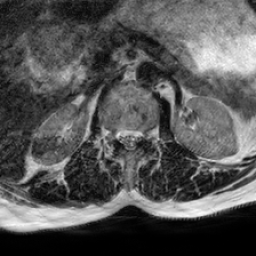CCS_normal: (126, 123, 134, 156)
LFS_normal: (144, 122, 152, 149)
LLS_normal: (134, 123, 144, 153)
RFS_normal: (108, 120, 117, 148)
RLS_normal: (117, 121, 126, 154)
